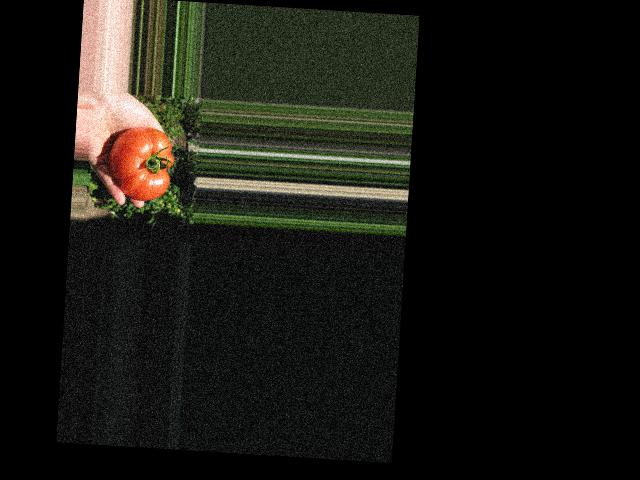tomato: (107, 126, 175, 203)
